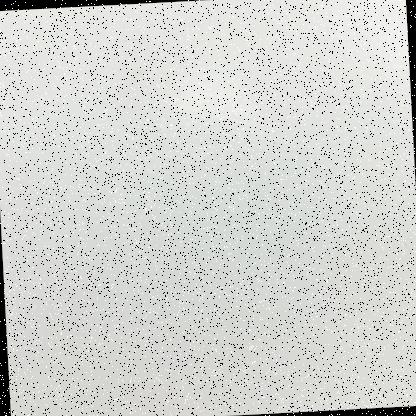Nocrack: (6, 1, 415, 415)
